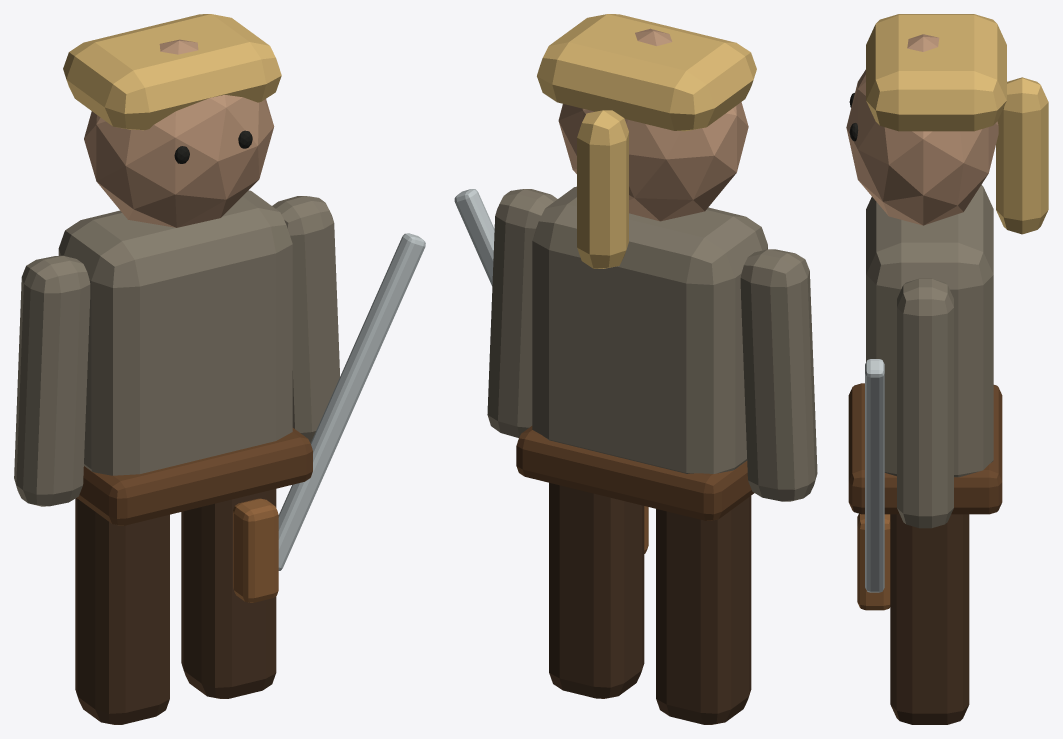
Rendered from davis_4180.glb.
The picture shows the model from 3 angles, left to right: view 1: azimuth 30°, elevation 25°; view 2: azimuth 150°, elevation 25°; view 3: azimuth 270°, elevation 25°; orthographic projection. The views are drawn at different scales.
Parts seen in each view (by area): view 1: Fitted torso, Booted leg, Head, Detailed arm, Hair, Booted leg.001, Broad weapon belt, Detailed arm.001, Demonstration sword, Sword grip; view 2: Fitted torso, Booted leg, Booted leg.001, Hair, Detailed arm, Head, Detailed arm.001, Broad weapon belt, Tied blonde ponytail, Demonstration sword; view 3: Fitted torso, Booted leg.001, Hair, Detailed arm.001, Head, Tied blonde ponytail, Broad weapon belt, Demonstration sword, Sword grip.
Part boxes in pixels (bbox=[...]): Fitted torso: bbox=[58, 190, 292, 475]; Booted leg: bbox=[75, 498, 169, 724]; Head: bbox=[84, 39, 274, 227]; Detailed arm: bbox=[14, 255, 90, 506]; Hair: bbox=[63, 14, 281, 130]; Booted leg.001: bbox=[181, 489, 276, 698]; Broad weapon belt: bbox=[77, 428, 312, 525]; Detailed arm.001: bbox=[272, 196, 339, 442]; Demonstration sword: bbox=[278, 233, 425, 570]; Sword grip: bbox=[233, 498, 278, 602]; Fitted torso: bbox=[532, 186, 767, 473]; Booted leg: bbox=[656, 496, 751, 724]; Booted leg.001: bbox=[549, 482, 644, 698]; Hair: bbox=[537, 14, 756, 131]; Detailed arm: bbox=[740, 249, 817, 501]; Head: bbox=[558, 28, 748, 221]; Detailed arm.001: bbox=[487, 189, 557, 437]; Broad weapon belt: bbox=[516, 426, 754, 520]; Tied blonde ponytail: bbox=[577, 110, 628, 268]; Demonstration sword: bbox=[454, 189, 494, 285]; Fitted torso: bbox=[866, 185, 993, 477]; Booted leg.001: bbox=[890, 514, 969, 724]; Hair: bbox=[866, 14, 1006, 131]; Detailed arm.001: bbox=[897, 278, 953, 528]; Head: bbox=[846, 34, 998, 225]; Tied blonde ponytail: bbox=[996, 77, 1048, 234]; Broad weapon belt: bbox=[848, 383, 1002, 514]; Demonstration sword: bbox=[865, 359, 884, 592]; Sword grip: bbox=[857, 513, 890, 610].
Size of the model in its own units: 1.96 by 3.28 by 0.92.
